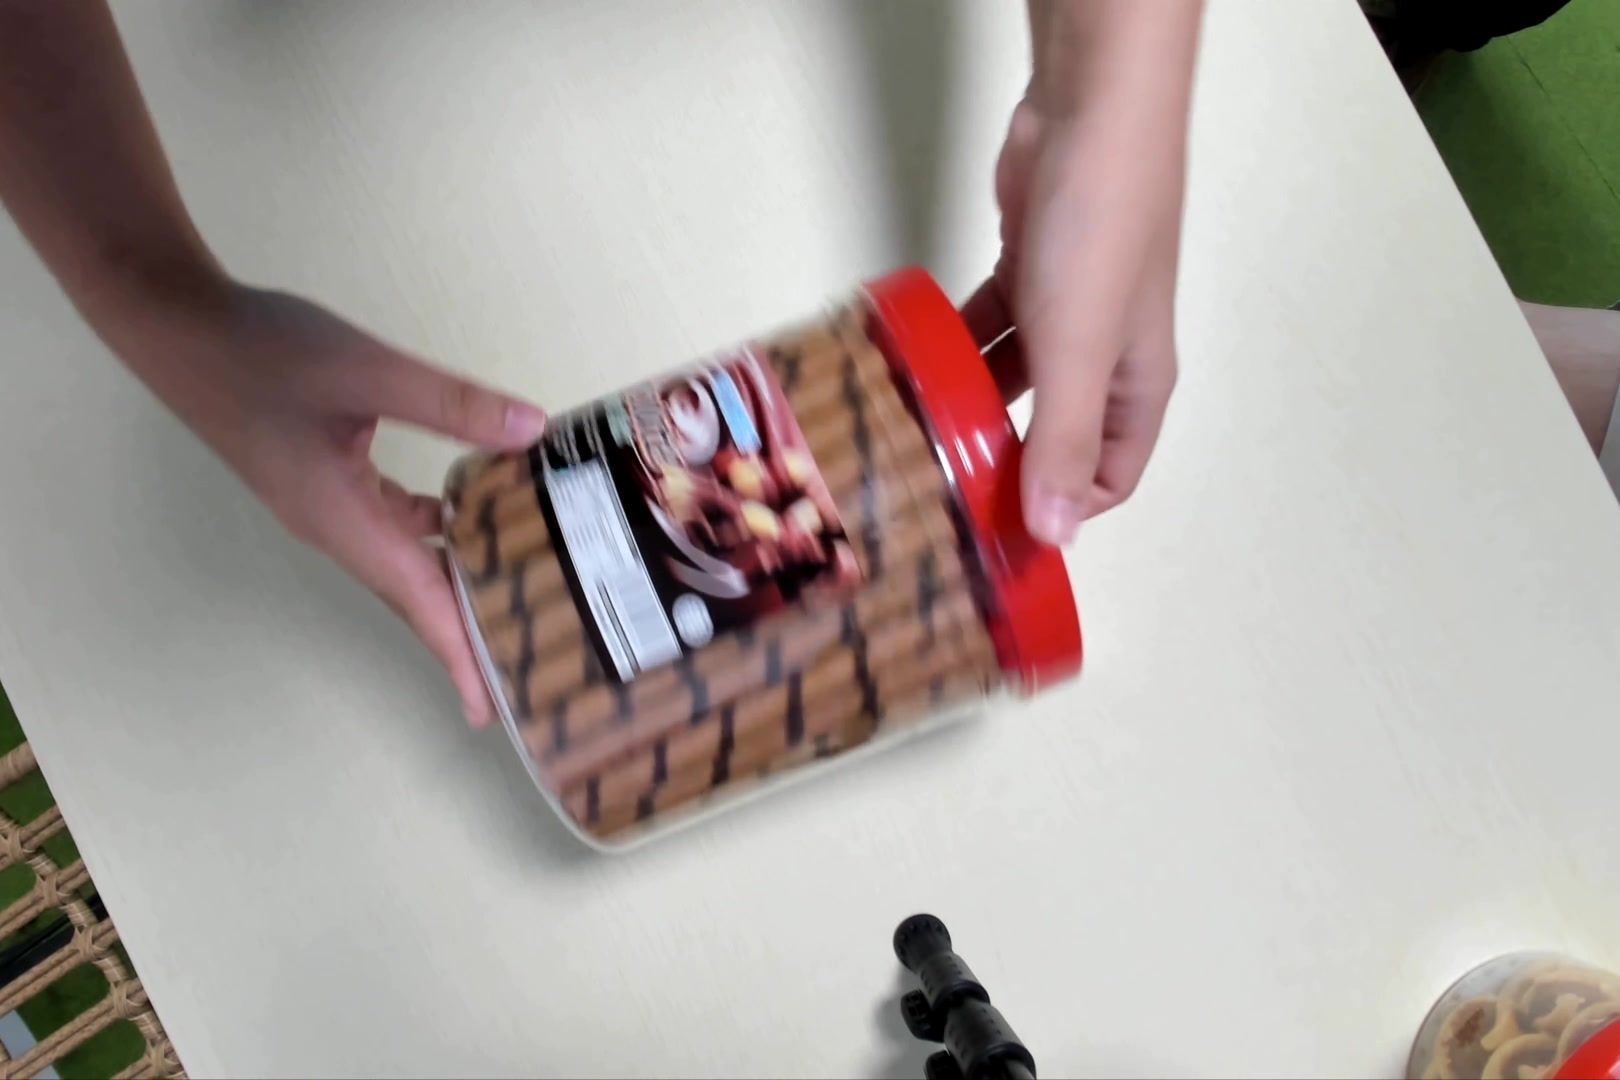BiscuitsCrackersCookies_400-499g_Halal_NonHealthy: (442, 259, 1088, 849)
